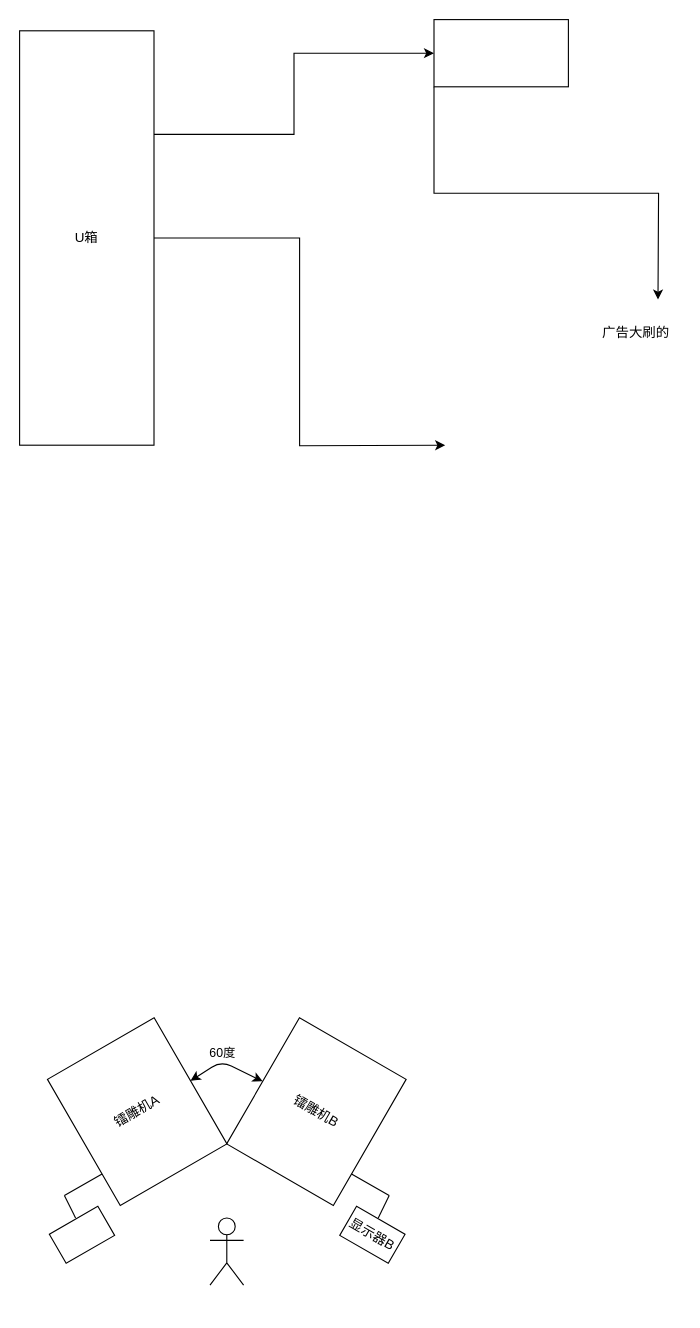
Some shapes in this 700 by 1328 pixel diagram are drawn without their labels. Each missing label, with the box of its shape:
操作员: (209, 1217, 244, 1285)
显示器A: (48, 1205, 115, 1263)
